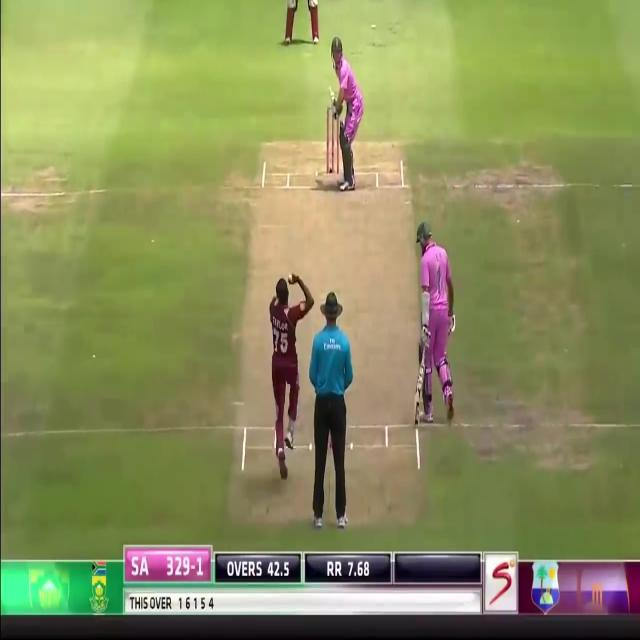Ball: (417, 218, 456, 426), (328, 38, 363, 190)
Fielder: (268, 274, 311, 458), (284, 0, 305, 44), (308, 0, 320, 44)
Umpire: (311, 289, 353, 531)
